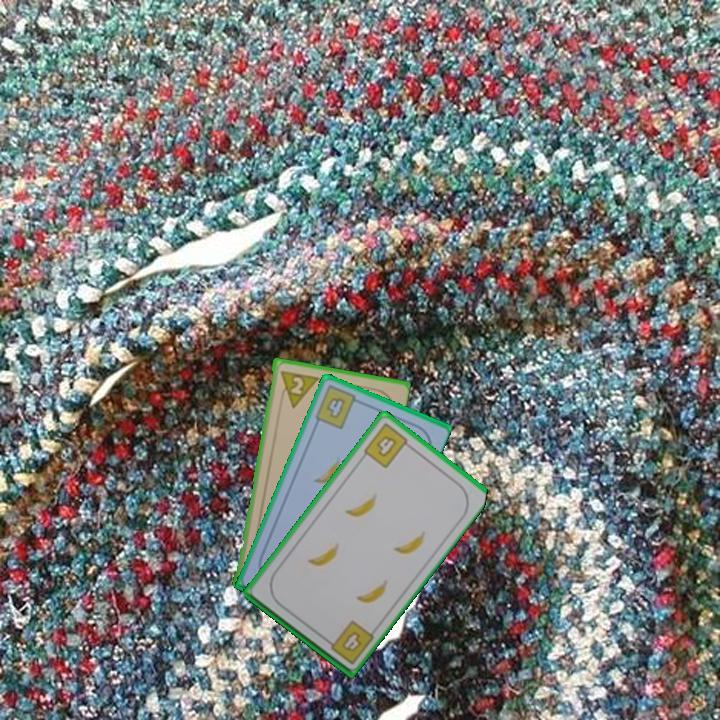2p: (276, 367, 319, 410)
4b: (360, 419, 415, 471), (321, 616, 376, 667), (311, 382, 364, 432)
